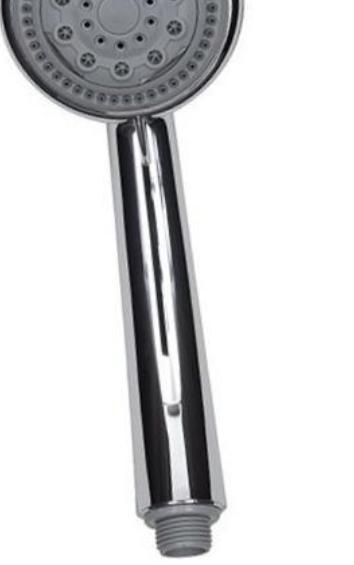Ducha: (0, 0, 329, 565)
